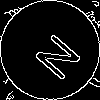N: (25, 25, 84, 83)
